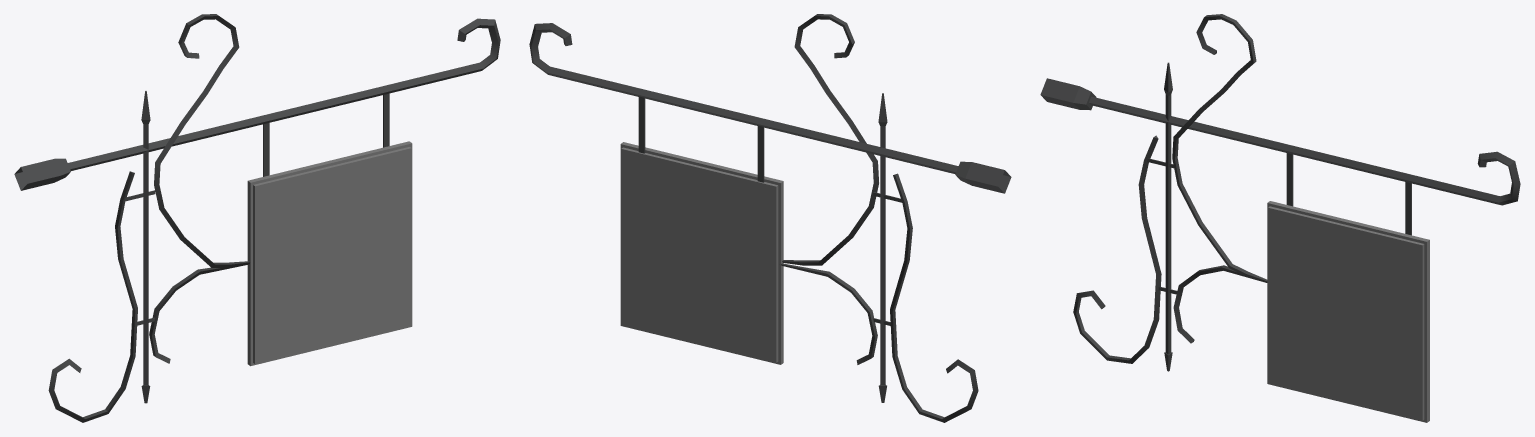
The model's file is SM_storesign_05.fbx.
3 renders of one model, left to right at view 1: azimuth 30°, elevation 25°; view 2: azimuth 150°, elevation 25°; view 3: azimuth 330°, elevation 25°, orthographic.
Visible parts, largest first — view 1: Object093; view 2: Object093; view 3: Object093.
Part boxes in pixels (box(x1,y1,x2,y2)): Object093: box(14, 14, 500, 422); Object093: box(529, 14, 1011, 422); Object093: box(1040, 14, 1520, 422).
Bounding box in the file's own units: 58.28 × 2.79 × 44.19.
